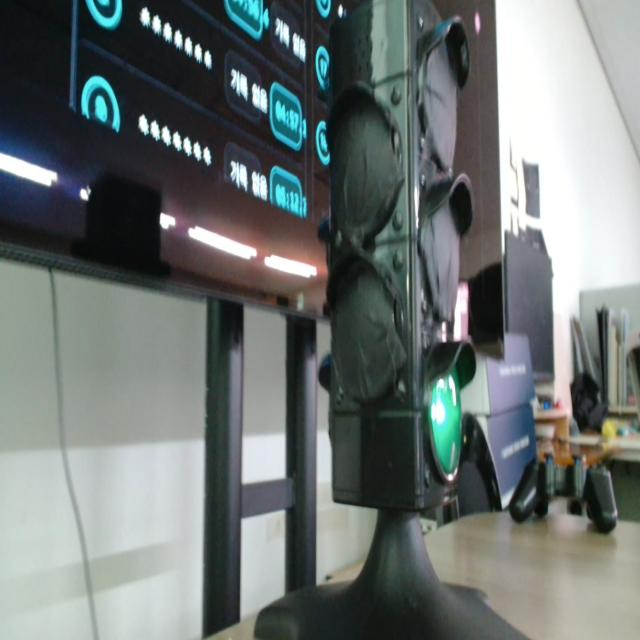green_light: (429, 370, 461, 478)
